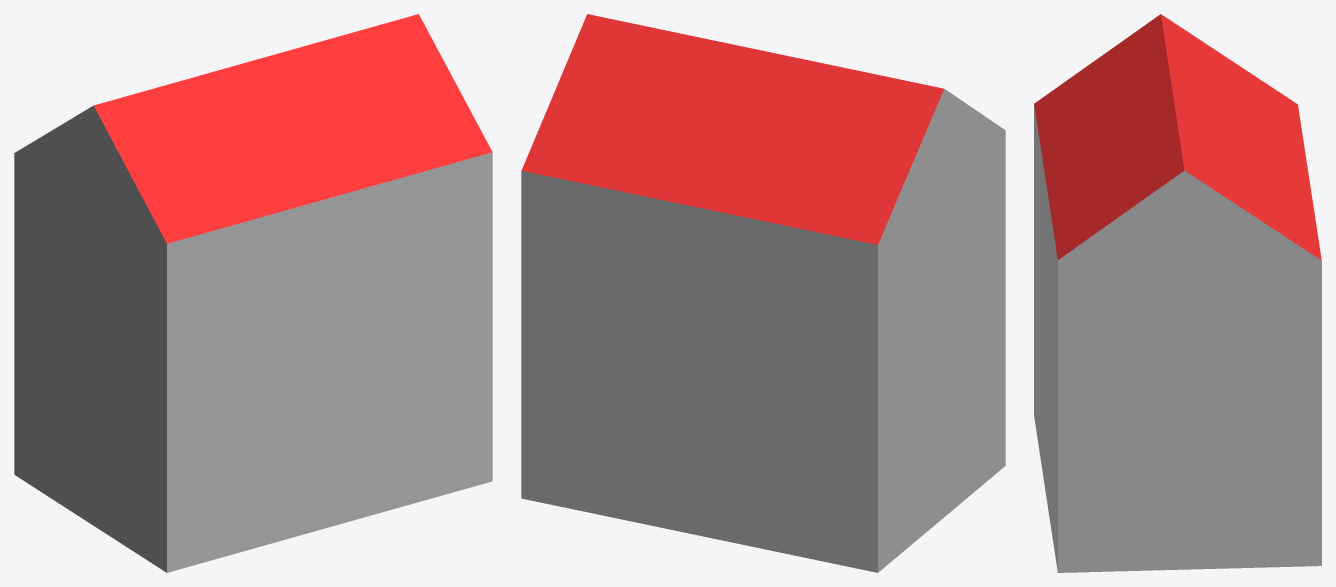
File: DEBY_LOD2_4729644.dae
The picture shows the model from 3 angles, left to right: view 1: azimuth 30°, elevation 25°; view 2: azimuth 150°, elevation 25°; view 3: azimuth 270°, elevation 25°; orthographic projection. The views are drawn at different scales.
Bounding box in the file's own units: 15.03 × 11.21 × 17.16.
